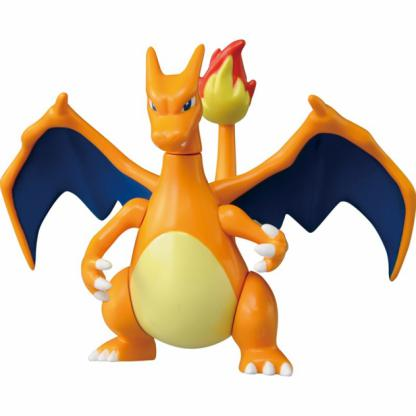Charizard: (1, 24, 416, 379)
